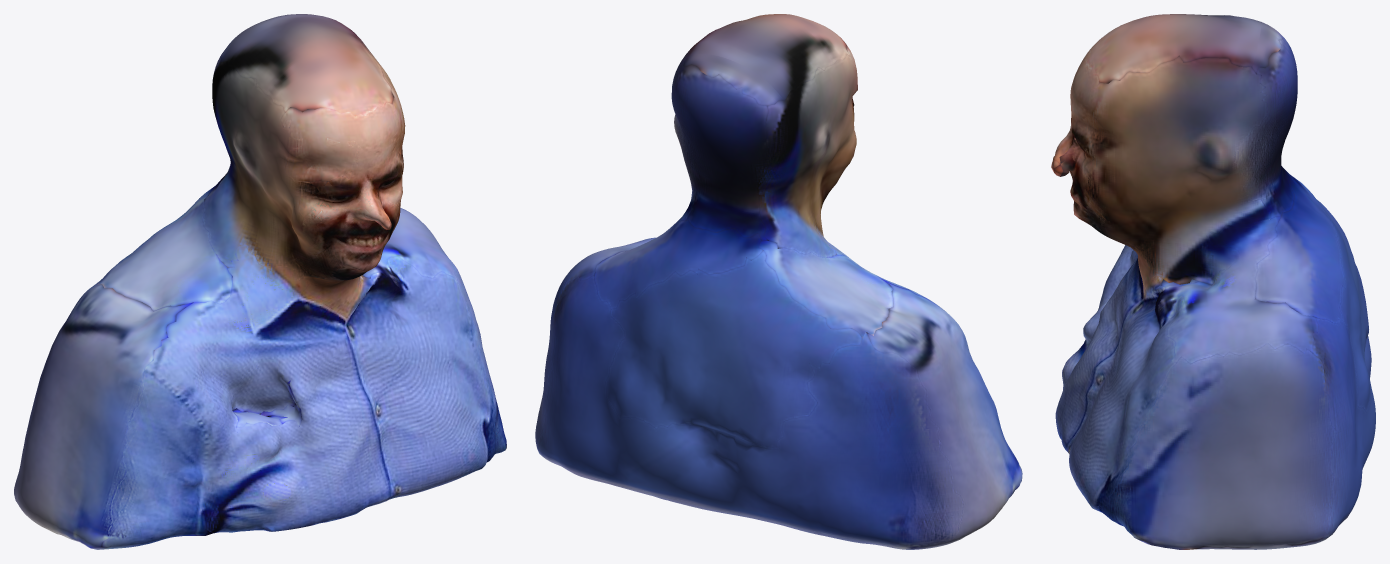
3 renders of one model, left to right at view 1: azimuth 30°, elevation 25°; view 2: azimuth 150°, elevation 25°; view 3: azimuth 270°, elevation 25°, orthographic. The views are drawn at different scales.
Visible parts, largest first — view 1: model.obj; view 2: model.obj; view 3: model.obj.
Part boxes in pixels (box(x1,y1,x2,y2)): model.obj: box(14, 14, 506, 549); model.obj: box(535, 14, 1022, 549); model.obj: box(1051, 14, 1375, 549).
Bounding box in the file's own units: 101 × 98.49 × 63.45.
Materials: 1 (1 with a texture image).
